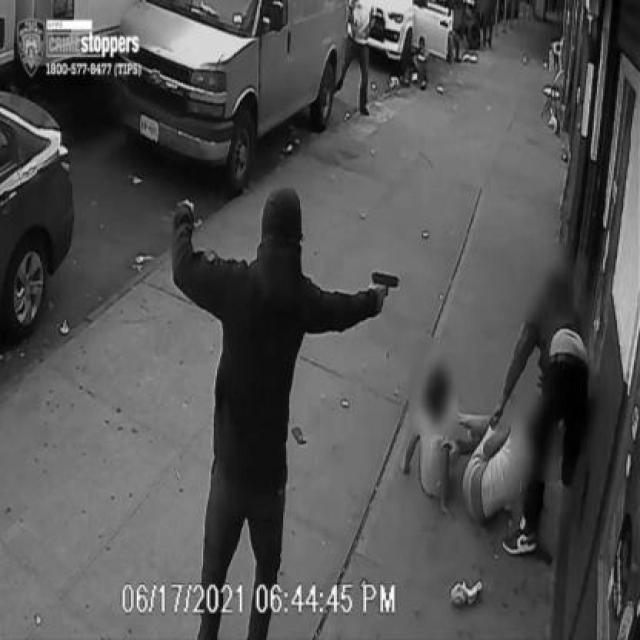weapon: (370, 268, 402, 298)
